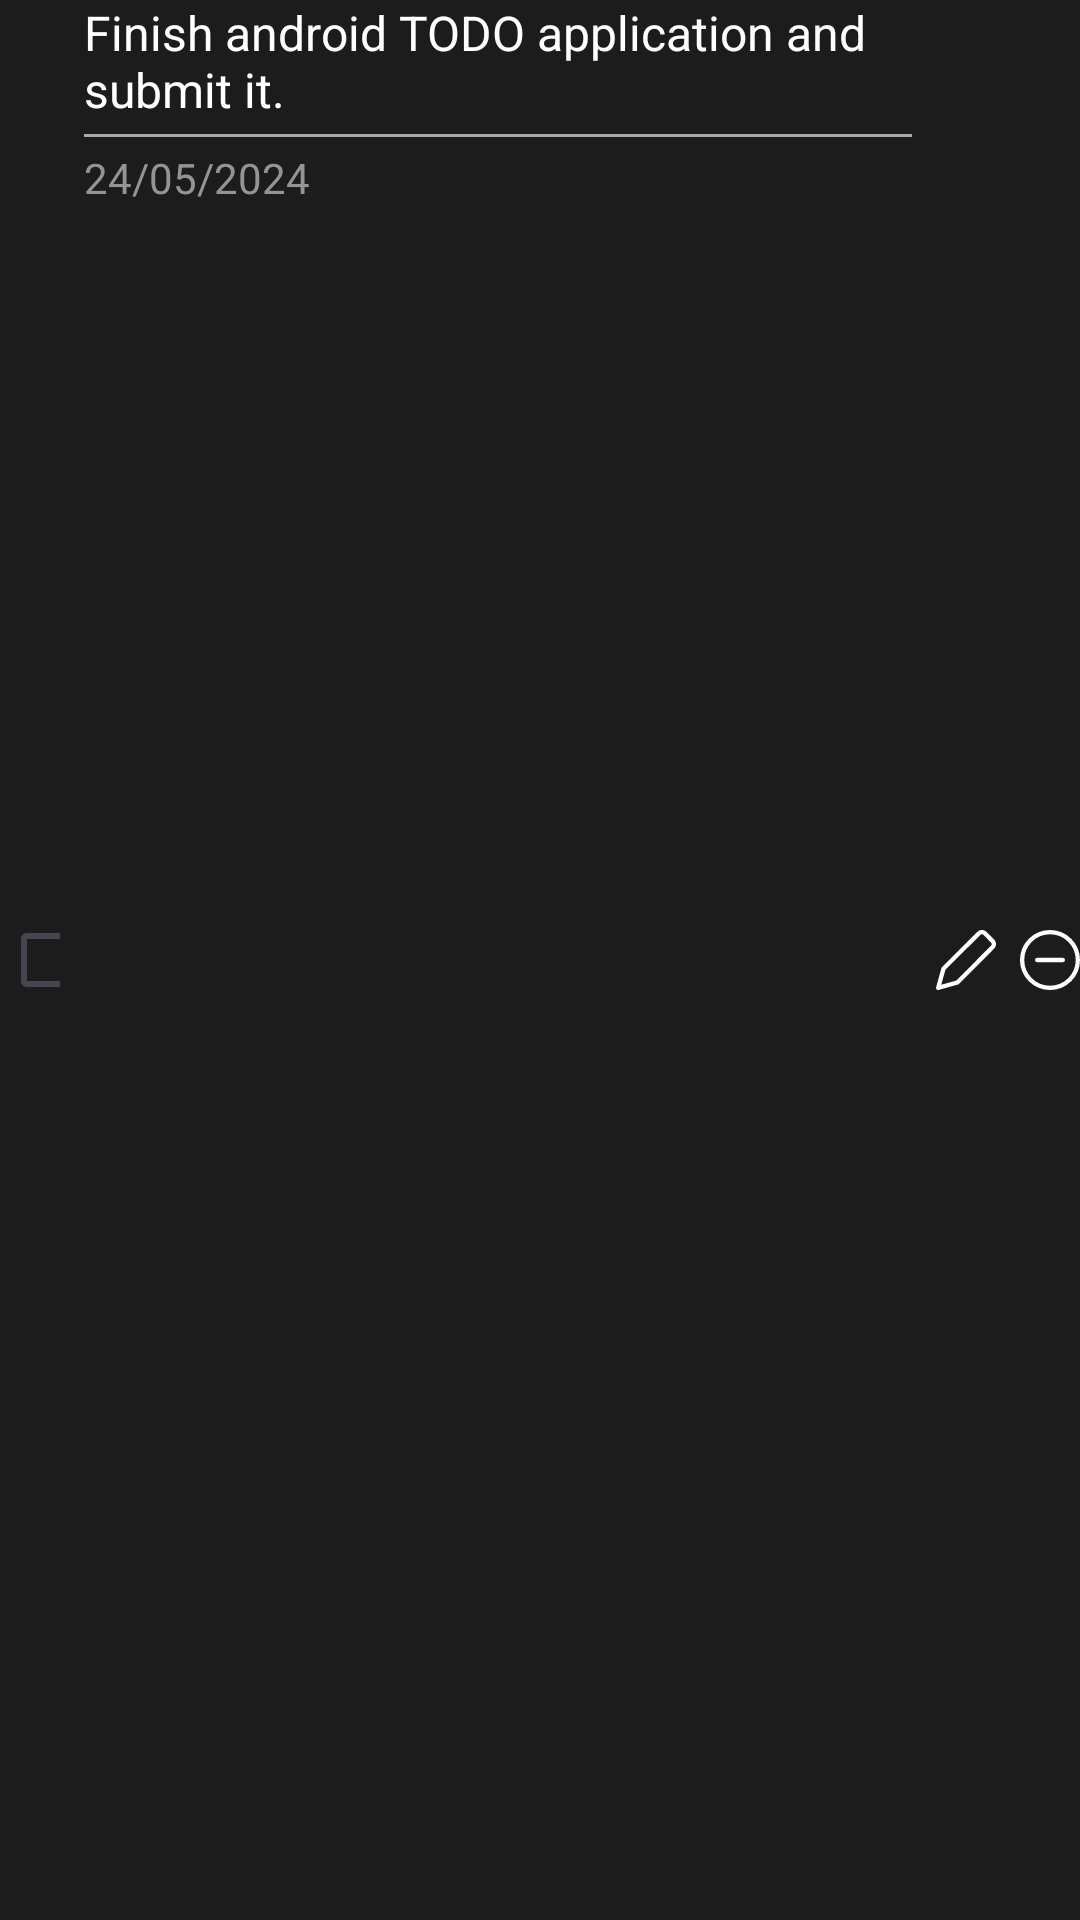

Where icons sit on this 1080x1920 app screen, as (x1, y1, x2, y2):
Delete task: (1020, 930, 1080, 990)
Edit task: (936, 930, 996, 990)
